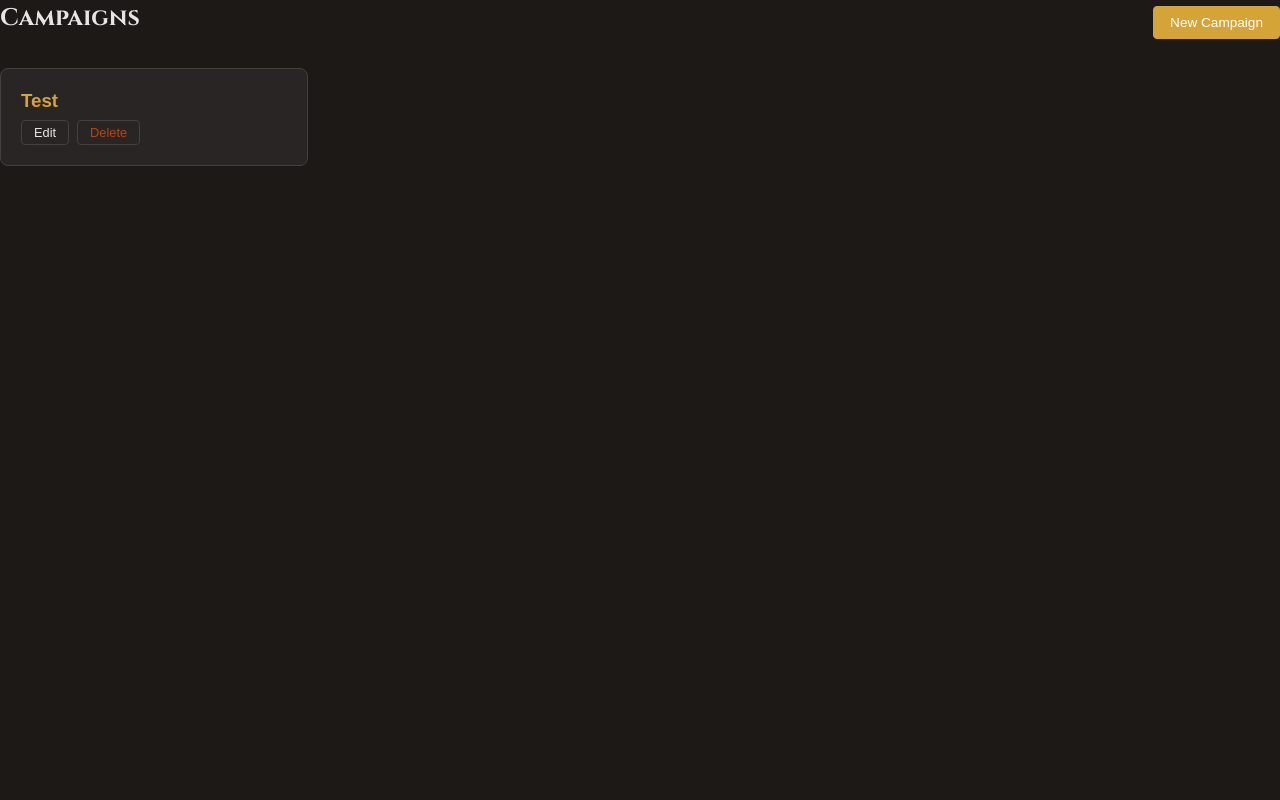
it: CampaignList › shows confirm dialog when delete is clicked
Click the button "Delete" at (109, 132), box [77,120,140,145]
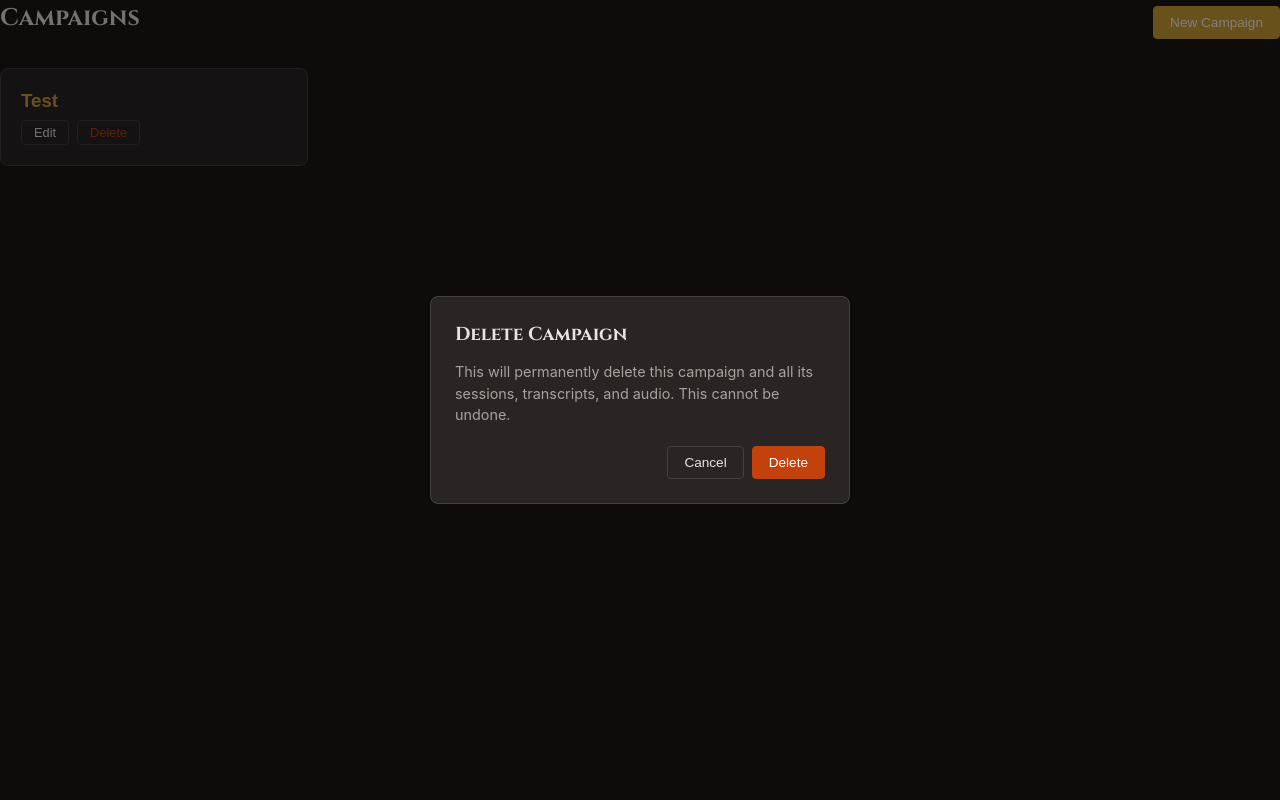
Now the heading "Delete Campaign" is shown, box [455,322,627,347]
Now the text "permanently delete" is shown, box [455,363,813,423]
